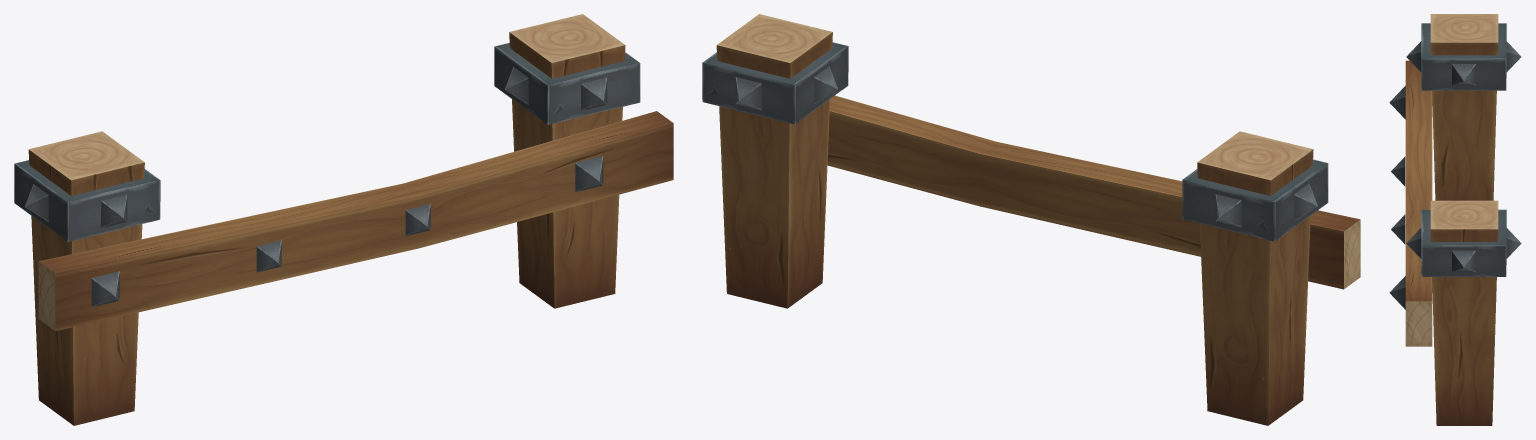
File: wooden_fence_14.fbx
The picture shows the model from 3 angles, left to right: view 1: azimuth 30°, elevation 25°; view 2: azimuth 150°, elevation 25°; view 3: azimuth 270°, elevation 25°; orthographic projection. The views are drawn at different scales.
Visible parts, largest first — view 1: wooden_fence_14:Mesh; view 2: wooden_fence_14:Mesh; view 3: wooden_fence_14:Mesh.
Boxes of the visible parts, x1=… form: wooden_fence_14:Mesh: x1=14, y1=14, x2=673, y2=425; wooden_fence_14:Mesh: x1=702, y1=14, x2=1360, y2=425; wooden_fence_14:Mesh: x1=1389, y1=14, x2=1521, y2=425.
Size of the model in its own units: 6.98 by 2.7 by 1.62.
